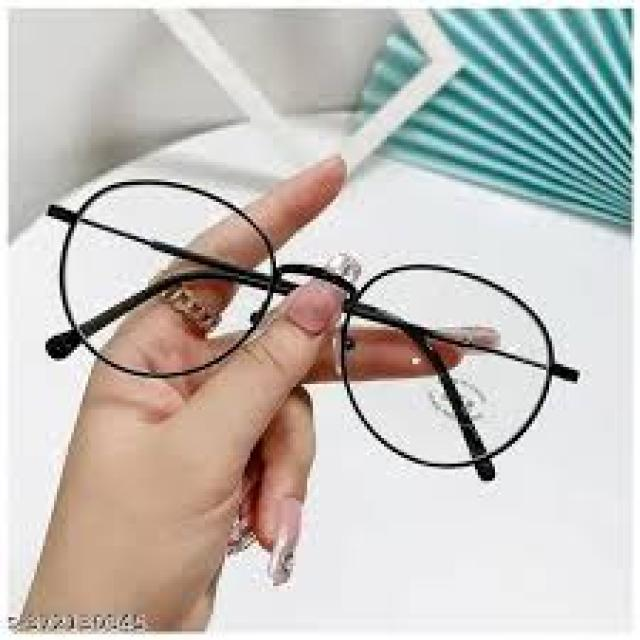specticles: (31, 169, 580, 493)
